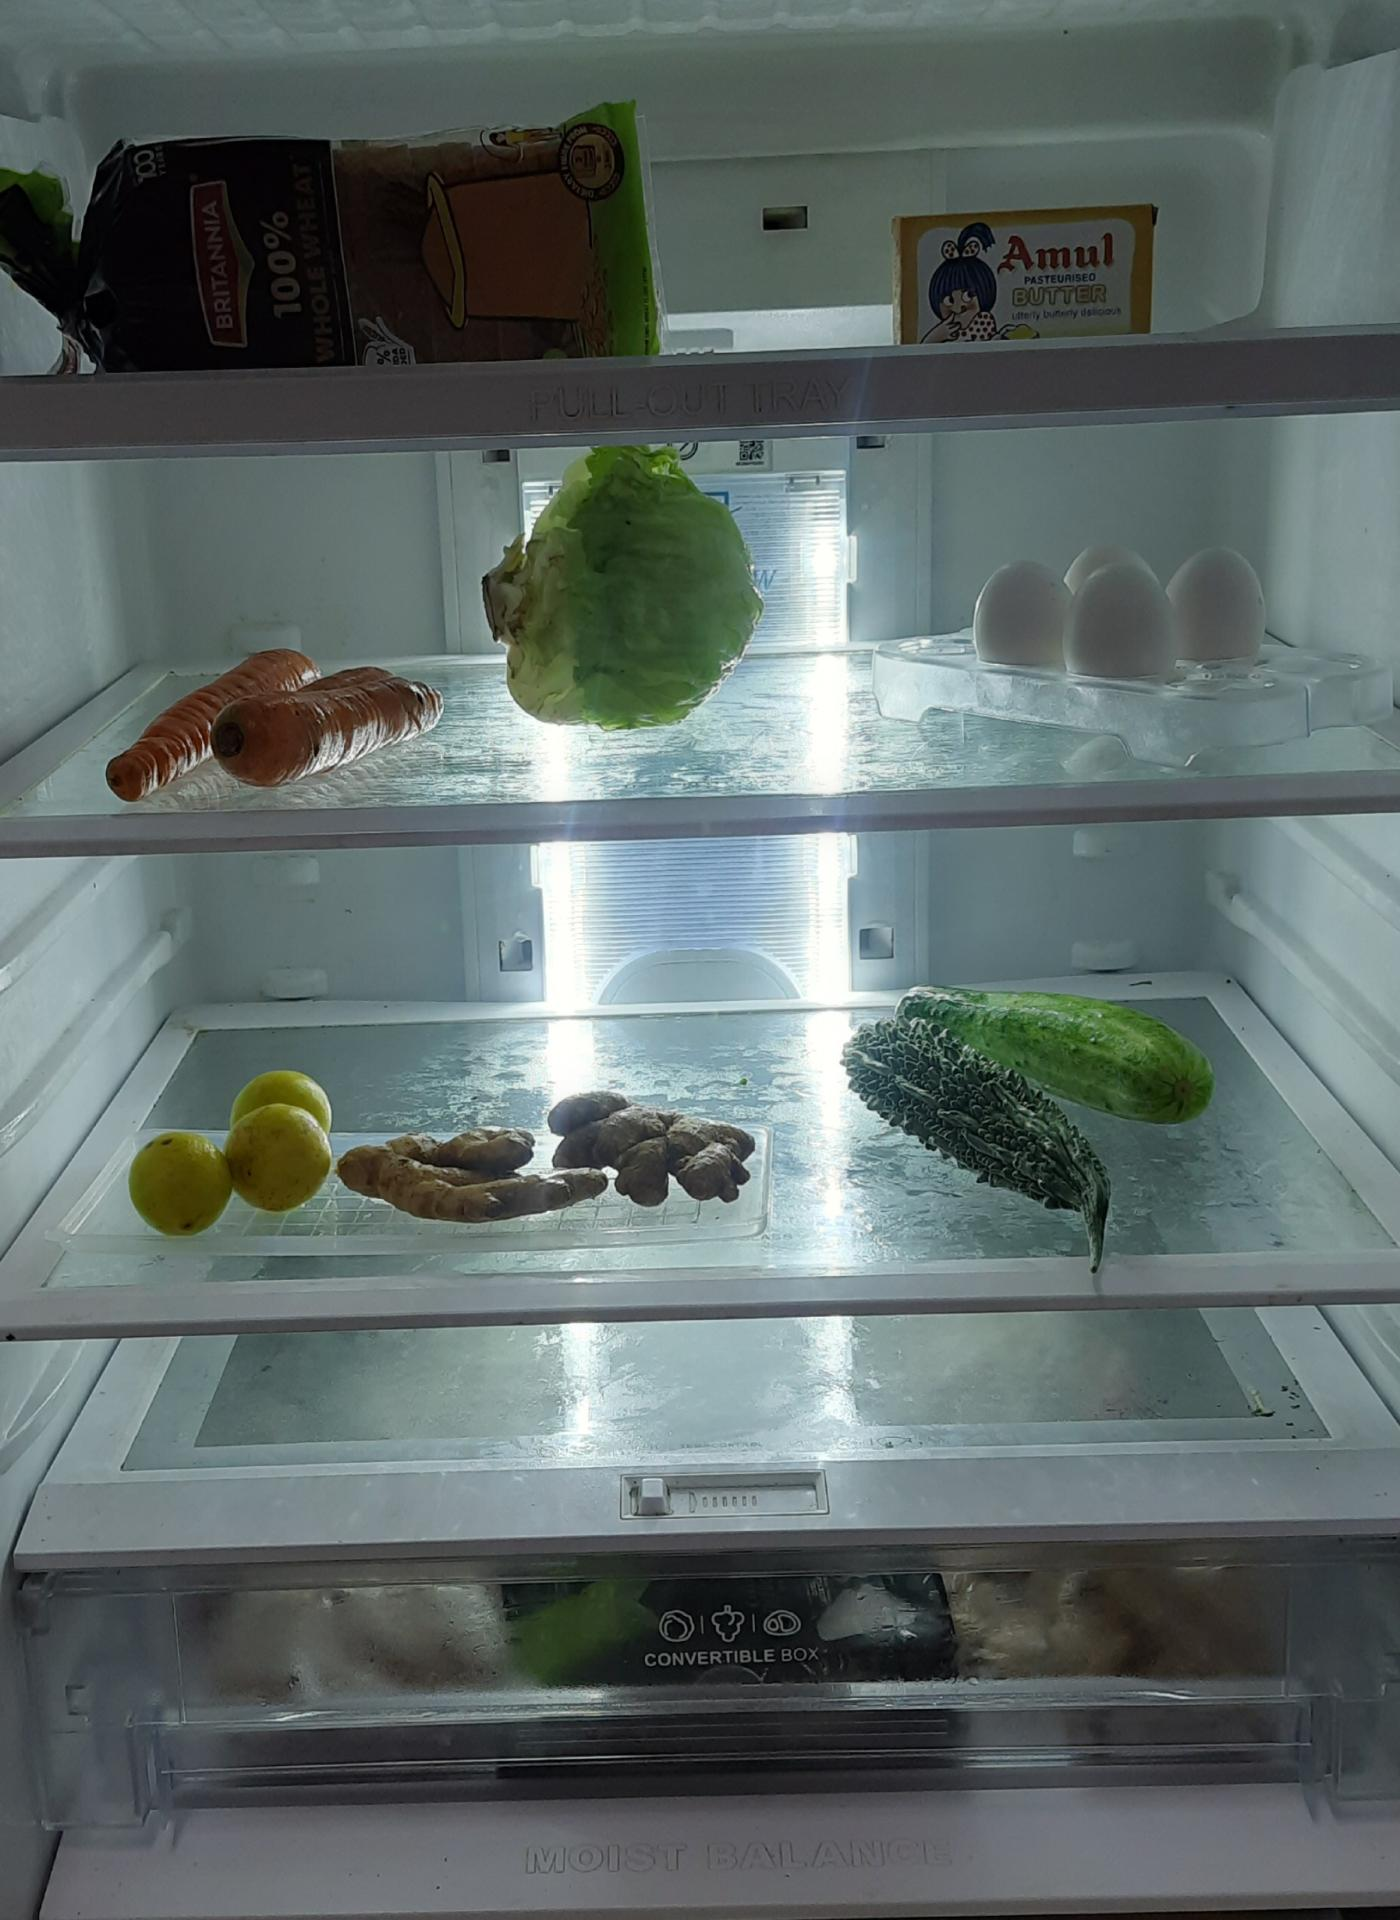bitter gourd: (836, 999, 1114, 1237)
bread: (51, 95, 662, 356)
butter: (890, 200, 1164, 353)
carrots: (81, 650, 435, 809)
cucumber: (860, 987, 1223, 1133)
egg: (975, 522, 1281, 684)
lemon: (121, 1060, 341, 1237)
lettuce: (480, 453, 765, 738), (344, 1091, 762, 1221)
